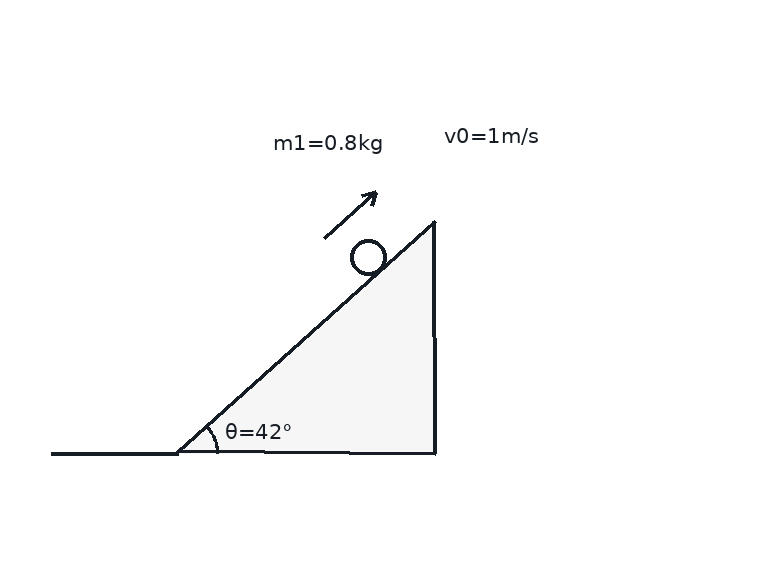ball: (348, 237, 388, 277)
ramp: (175, 219, 437, 455)
